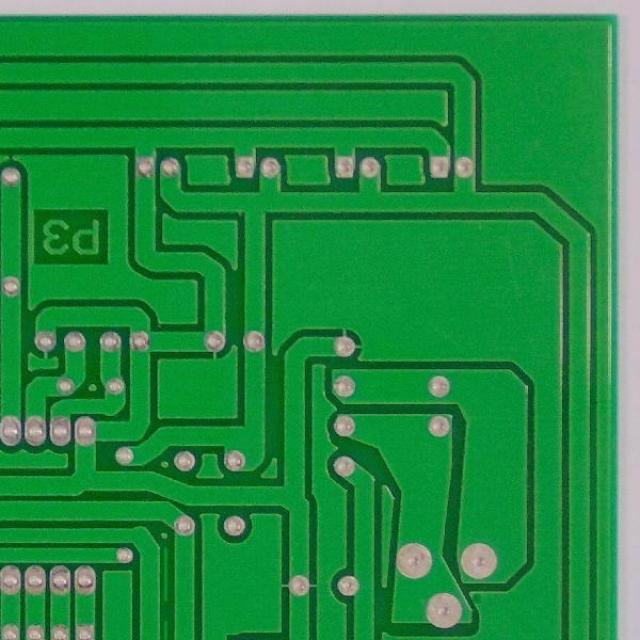spurious_copper: (157, 545, 178, 605), (156, 616, 177, 639)
